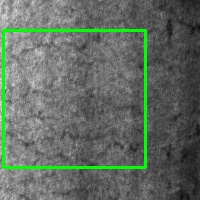crazing: (3, 30, 145, 167)
